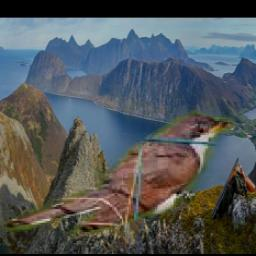Cuckoo: (1, 106, 237, 245)
